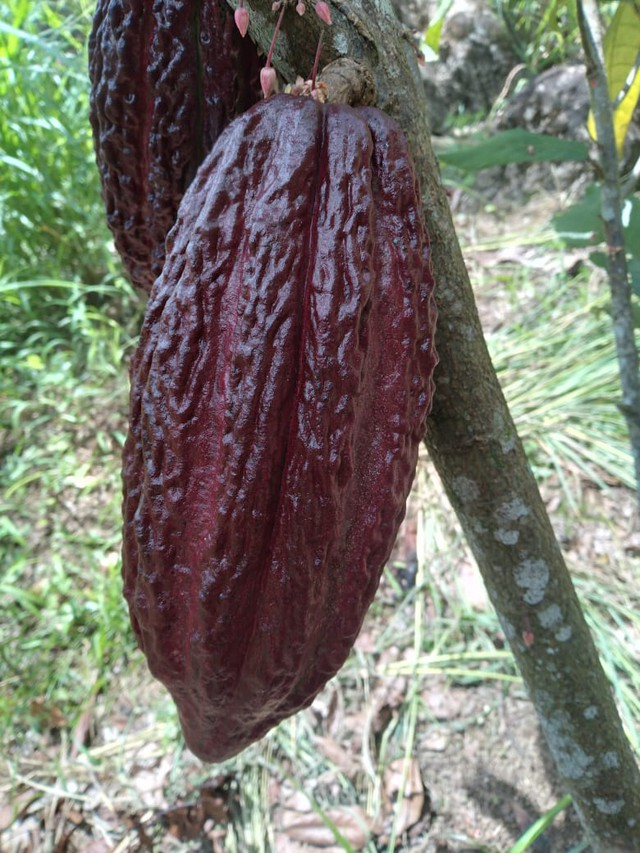Health: (87, 69, 463, 785)
